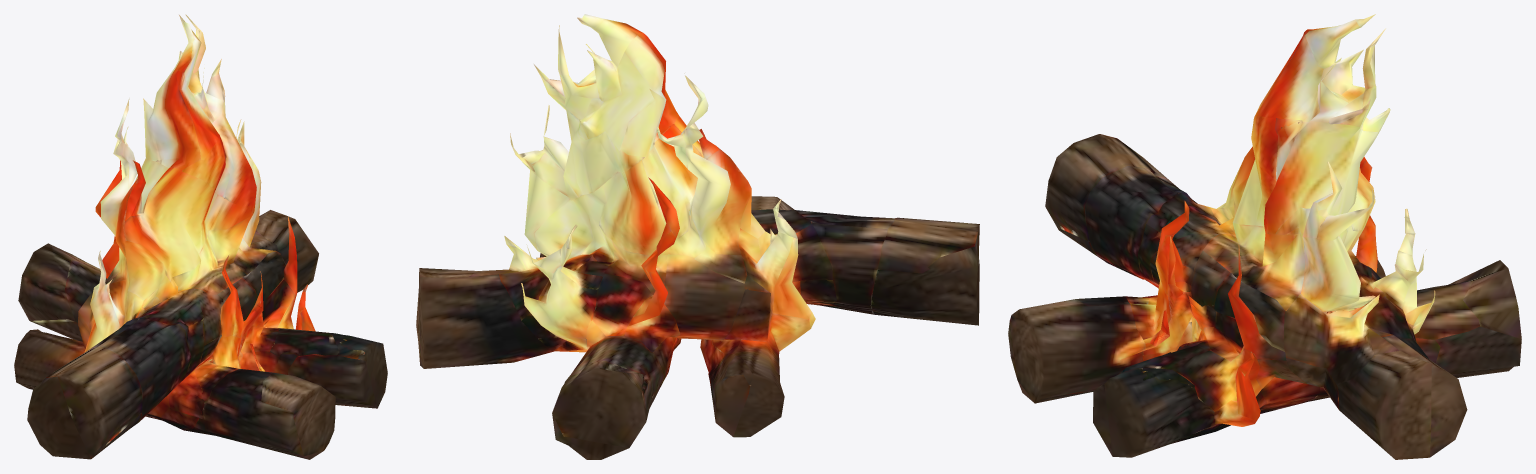
File: campfire.glb
The picture shows the model from 3 angles, left to right: view 1: azimuth 30°, elevation 25°; view 2: azimuth 150°, elevation 25°; view 3: azimuth 270°, elevation 25°; orthographic projection. The views are drawn at different scales.
Bounding box in the file's own units: 1.89 × 1.55 × 1.81.
1 material, 1 textured.
